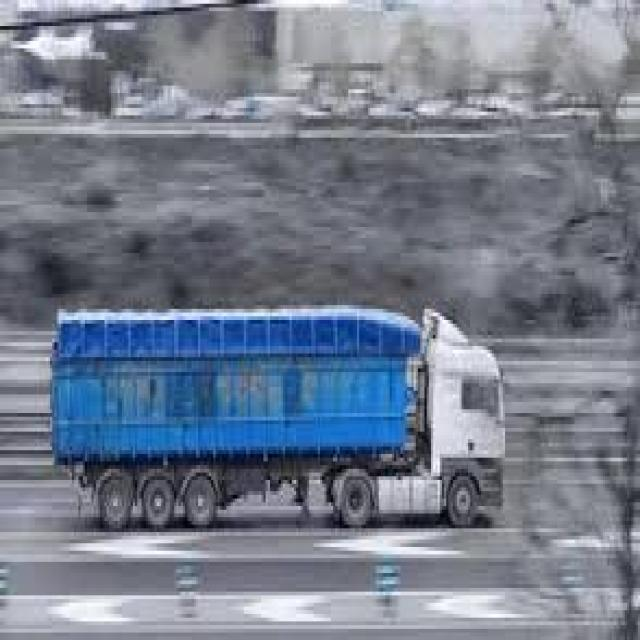covered: (46, 297, 507, 528)
